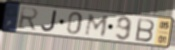0: (66, 11, 84, 36)
9: (115, 15, 134, 41)
B: (134, 17, 156, 43)
J: (40, 9, 59, 33)
M: (83, 13, 111, 38)
R: (18, 6, 41, 31)
